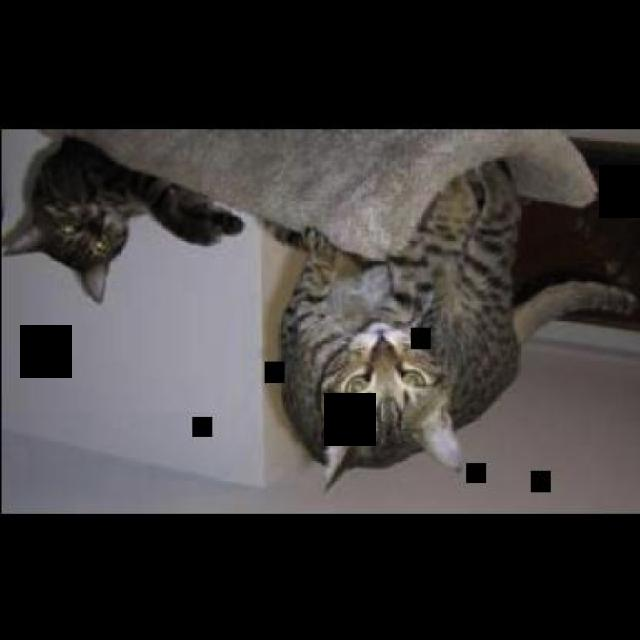unauthorized: (266, 155, 639, 494), (0, 128, 603, 304), (0, 132, 245, 303)
